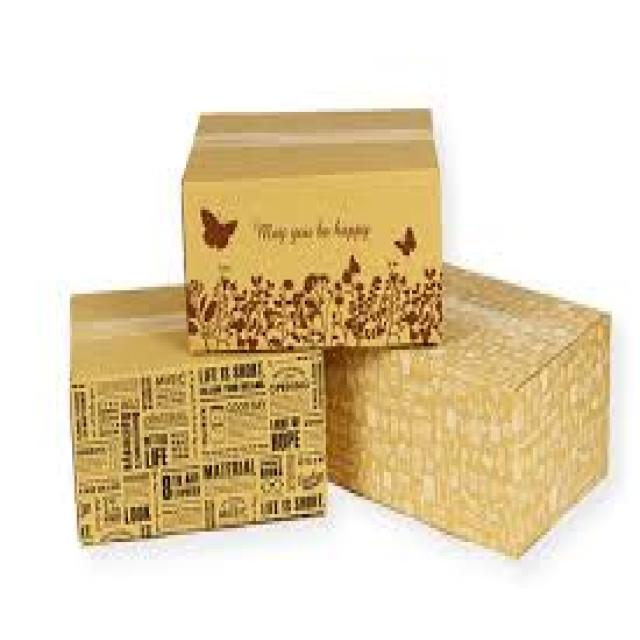Cardboard: (325, 260, 614, 558), (71, 284, 329, 547), (182, 108, 443, 351)
